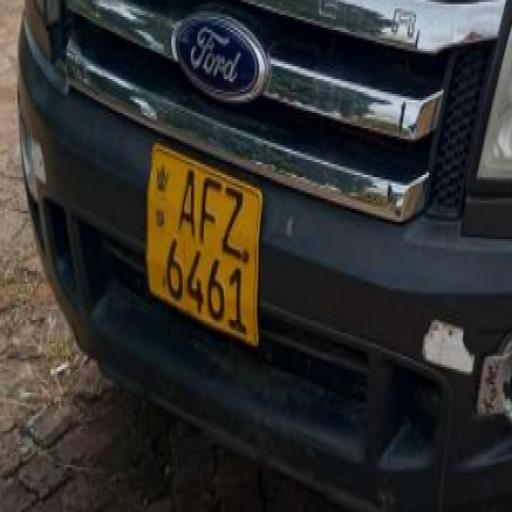number-plates: (152, 142, 250, 342)
